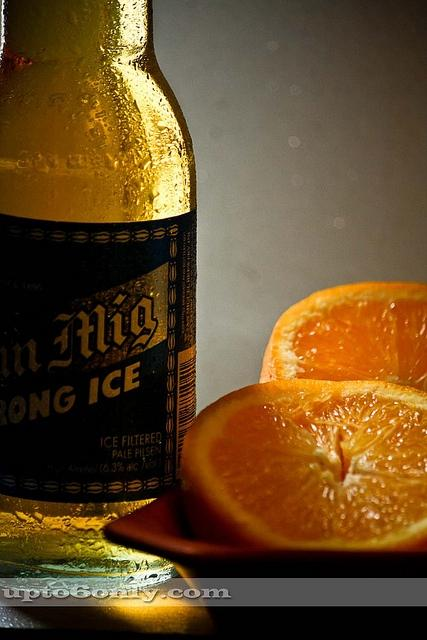orange: (181, 378, 427, 552), (258, 280, 426, 392)
